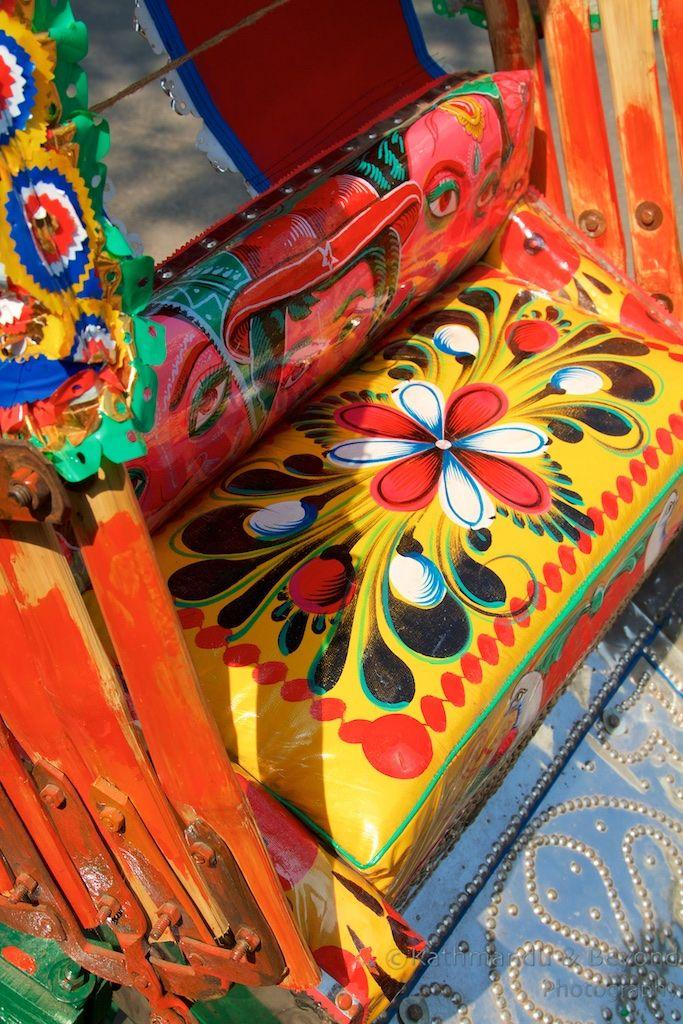Rickshaw: (2, 4, 683, 1019)
